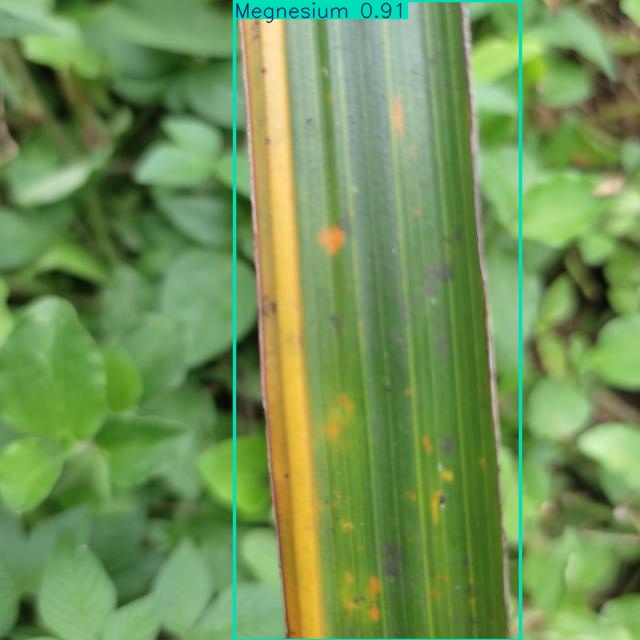Megnesium: (235, 0, 520, 640)
